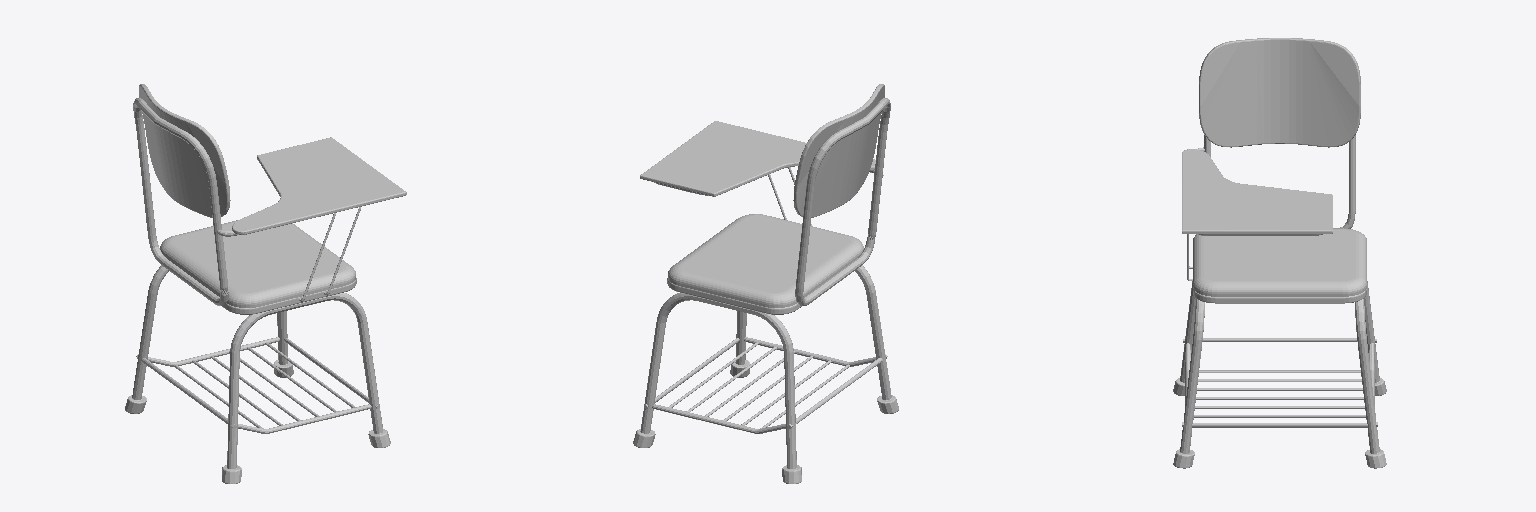
The model's file is SILLA.obj.
3 views of the same model, side by side, from view 1: azimuth 30°, elevation 25°; view 2: azimuth 150°, elevation 25°; view 3: azimuth 270°, elevation 25° (orthographic).
Parts seen in each view (by area): view 1: Cube.001_Cube.002, Plane.004_Plane.009, Plane_Plane.014, Plane.002_Plane.006, Plane.001_Plane.020, Plane.008_Plane.015, Plane.007_Plane.022, Cube_Cube.001; view 2: Cube.001_Cube.002, Plane.004_Plane.009, Plane_Plane.014, Plane.002_Plane.006, Plane.001_Plane.020, Plane.008_Plane.015, Plane.007_Plane.022, Cube_Cube.001; view 3: Plane.002_Plane.006, Cube.001_Cube.002, Plane.004_Plane.009, Plane_Plane.014, Plane.007_Plane.022, Plane.008_Plane.015, Cube_Cube.001, Plane.001_Plane.020.
Boxes of the visible parts, x1=… form: Cube.001_Cube.002: x1=160, y1=220, x2=355, y2=307; Plane.004_Plane.009: x1=232, y1=137, x2=406, y2=234; Plane_Plane.014: x1=125, y1=265, x2=390, y2=483; Plane.002_Plane.006: x1=139, y1=84, x2=230, y2=217; Plane.001_Plane.020: x1=133, y1=98, x2=228, y2=305; Plane.008_Plane.015: x1=141, y1=337, x2=371, y2=433; Plane.007_Plane.022: x1=174, y1=342, x2=354, y2=428; Cube_Cube.001: x1=222, y1=278, x2=356, y2=314; Cube.001_Cube.002: x1=668, y1=214, x2=863, y2=307; Plane.004_Plane.009: x1=640, y1=121, x2=875, y2=196; Plane_Plane.014: x1=633, y1=265, x2=898, y2=483; Plane.002_Plane.006: x1=793, y1=84, x2=884, y2=217; Plane.001_Plane.020: x1=795, y1=98, x2=890, y2=305; Plane.008_Plane.015: x1=652, y1=337, x2=882, y2=433; Plane.007_Plane.022: x1=669, y1=342, x2=849, y2=428; Cube_Cube.001: x1=667, y1=278, x2=801, y2=314; Plane.002_Plane.006: x1=1199, y1=38, x2=1360, y2=147; Cube.001_Cube.002: x1=1193, y1=228, x2=1366, y2=296; Plane.004_Plane.009: x1=1182, y1=149, x2=1332, y2=233; Plane_Plane.014: x1=1173, y1=281, x2=1386, y2=468; Plane.007_Plane.022: x1=1194, y1=370, x2=1365, y2=417; Plane.008_Plane.015: x1=1185, y1=338, x2=1374, y2=427; Cube_Cube.001: x1=1193, y1=289, x2=1366, y2=303; Plane.001_Plane.020: x1=1204, y1=135, x2=1355, y2=228.
Bounding box in the file's own units: 1.42 × 2.29 × 1.29.